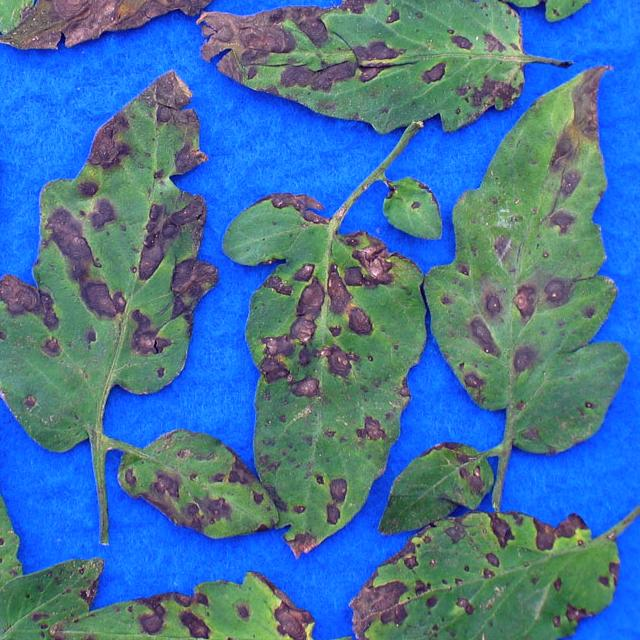Tomato Early blight leaf: (0, 76, 214, 458), (436, 59, 630, 463), (224, 202, 417, 570), (184, 0, 527, 135), (349, 492, 624, 640), (0, 162, 39, 640), (49, 578, 349, 640), (0, 0, 300, 53), (386, 436, 492, 532), (0, 0, 60, 56), (299, 0, 607, 10)
